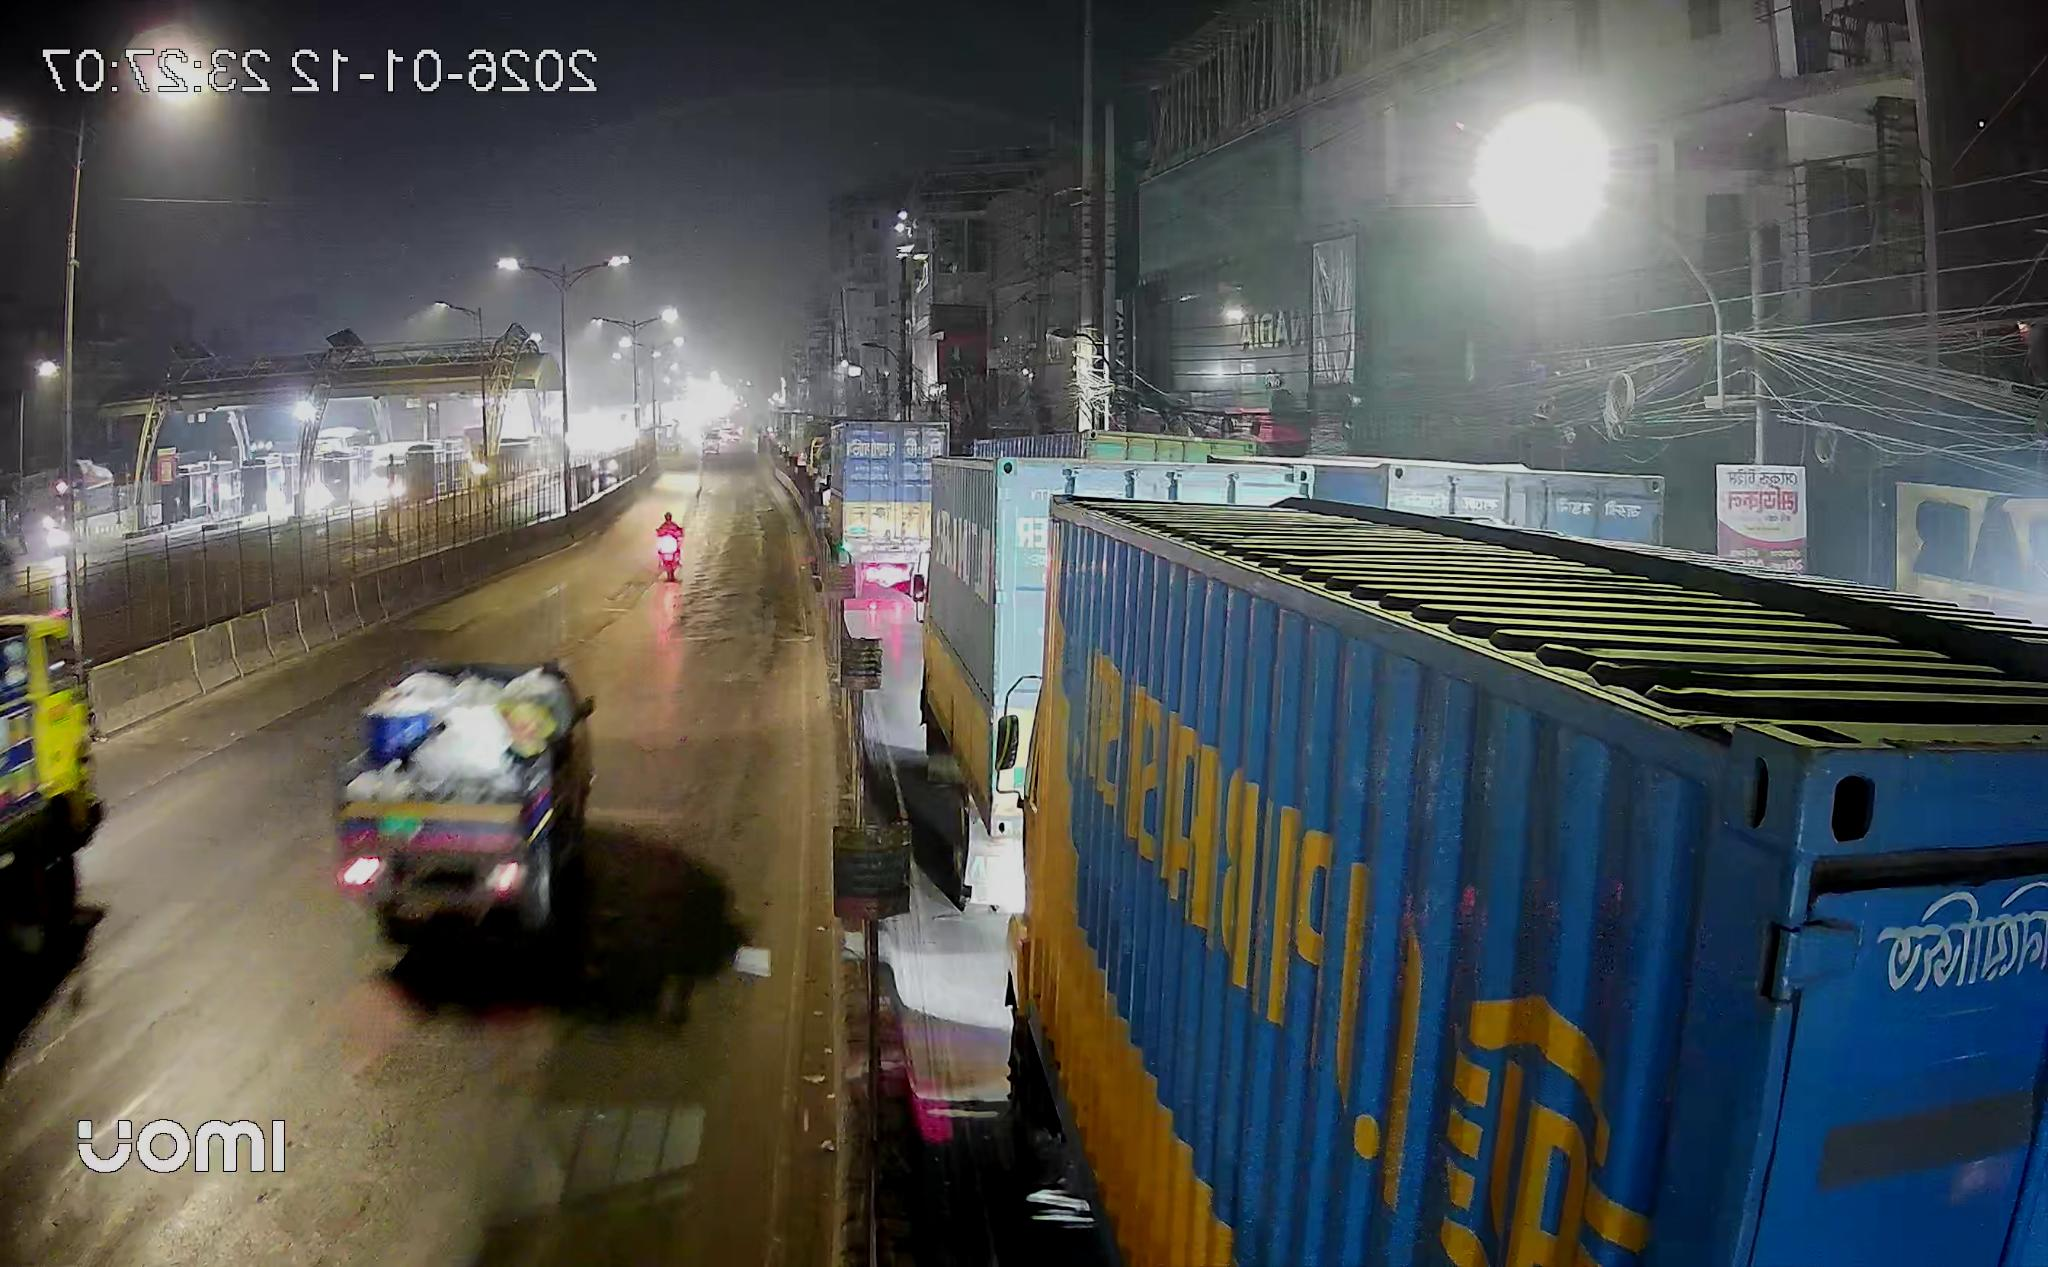Motorcycle: (657, 515, 683, 581)
Truck: (1008, 499, 2048, 1267), (922, 456, 1312, 913), (336, 661, 595, 951), (1, 613, 104, 960), (828, 421, 945, 594)
